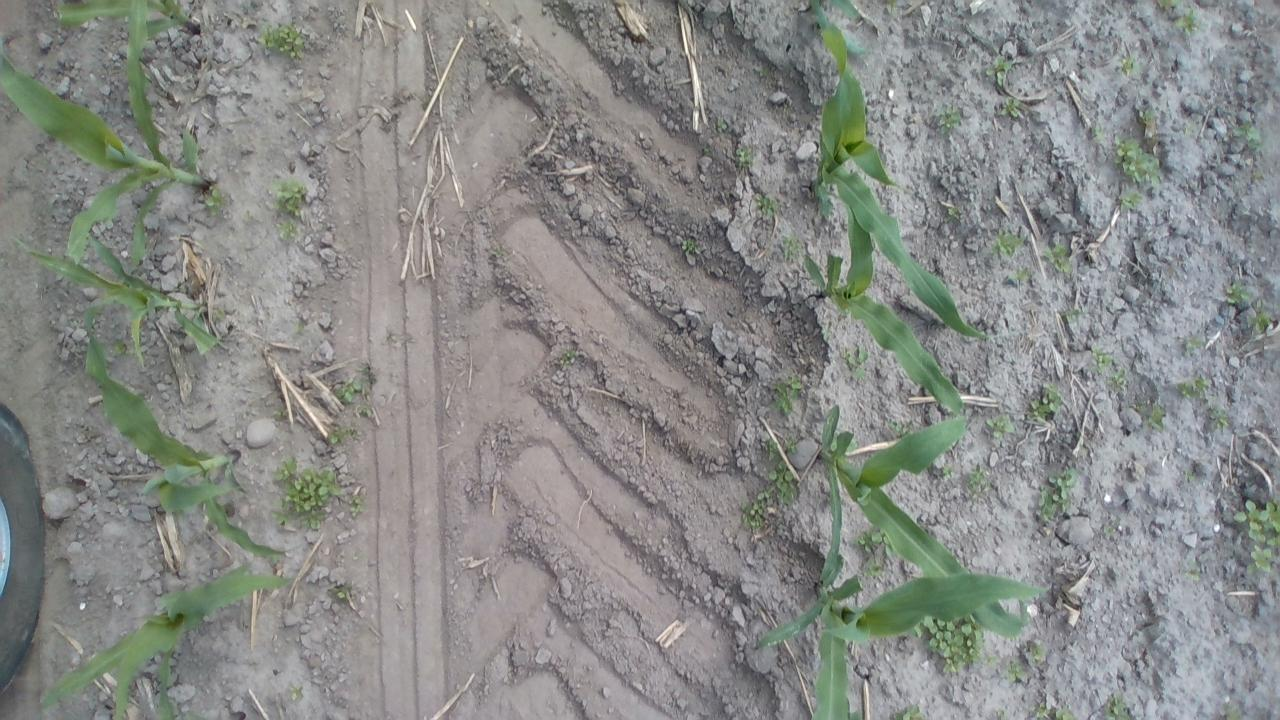Maize: (790, 0, 986, 346), (788, 393, 1042, 643), (0, 0, 216, 273), (77, 328, 296, 568), (748, 567, 1058, 720), (797, 190, 976, 416), (38, 568, 298, 720), (14, 213, 225, 366), (48, 0, 212, 49)
Weeds: (273, 459, 339, 530), (922, 614, 996, 676), (1231, 496, 1280, 575), (1108, 133, 1164, 186), (270, 176, 310, 244), (1034, 467, 1080, 522), (256, 20, 310, 64), (1023, 380, 1064, 428), (856, 526, 893, 576), (766, 372, 805, 419), (768, 463, 796, 514), (1039, 242, 1077, 277), (1097, 689, 1138, 720), (741, 490, 773, 528), (977, 412, 1016, 442), (1137, 397, 1169, 432), (1176, 373, 1212, 404), (987, 229, 1025, 258), (931, 103, 963, 136), (322, 424, 358, 453), (322, 581, 358, 609), (761, 437, 804, 460), (844, 347, 870, 384), (775, 234, 805, 266), (1246, 304, 1272, 340), (334, 373, 366, 402), (1221, 276, 1252, 304), (1026, 702, 1074, 720), (1112, 186, 1146, 211), (1174, 12, 1204, 40), (963, 461, 989, 492), (1084, 121, 1112, 149), (1202, 402, 1228, 432), (1236, 122, 1266, 148), (985, 52, 1009, 84), (1088, 342, 1112, 374), (752, 190, 778, 219), (200, 187, 230, 212), (344, 489, 368, 519), (732, 141, 756, 171), (1178, 336, 1210, 358), (558, 344, 582, 373), (1000, 660, 1026, 686), (1022, 638, 1050, 662), (268, 403, 294, 428), (891, 701, 924, 720), (1004, 266, 1032, 288), (999, 89, 1020, 117), (1118, 55, 1142, 78), (1140, 106, 1164, 128), (944, 204, 968, 225), (676, 233, 697, 256), (933, 461, 956, 482), (1218, 705, 1248, 720), (892, 417, 914, 437), (713, 112, 731, 136), (356, 402, 379, 420), (1110, 369, 1128, 390), (286, 685, 306, 703), (1182, 562, 1198, 583), (1097, 518, 1115, 536), (1055, 306, 1078, 320), (1156, 0, 1178, 13), (1182, 466, 1196, 484)
